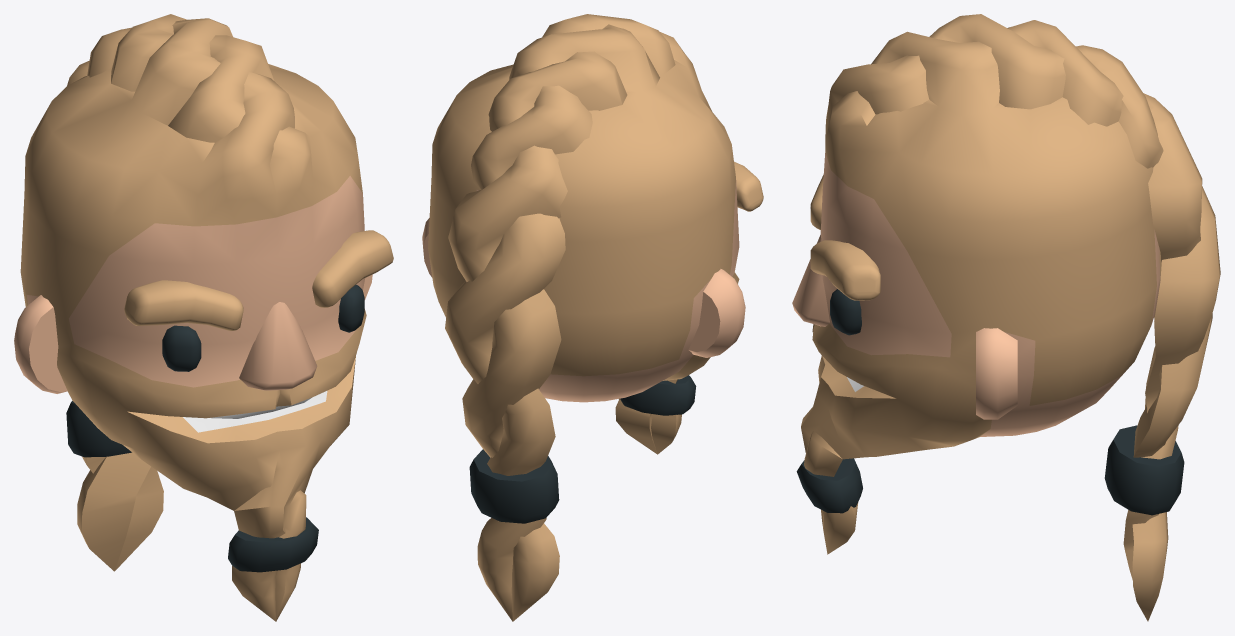
File: vikingMaleHead.gltf.glb
3 views of the same model, side by side, from view 1: azimuth 30°, elevation 25°; view 2: azimuth 150°, elevation 25°; view 3: azimuth 270°, elevation 25° (orthographic). The views are drawn at different scales.
Visible parts, largest first — view 1: vikingMaleHead; view 2: vikingMaleHead; view 3: vikingMaleHead.
Part boxes in pixels (x1=…): vikingMaleHead: x1=14, y1=14, x2=393, y2=621; vikingMaleHead: x1=422, y1=14, x2=763, y2=621; vikingMaleHead: x1=792, y1=14, x2=1220, y2=621.
Size of the model in its own units: 1.18 by 1.91 by 1.25.
